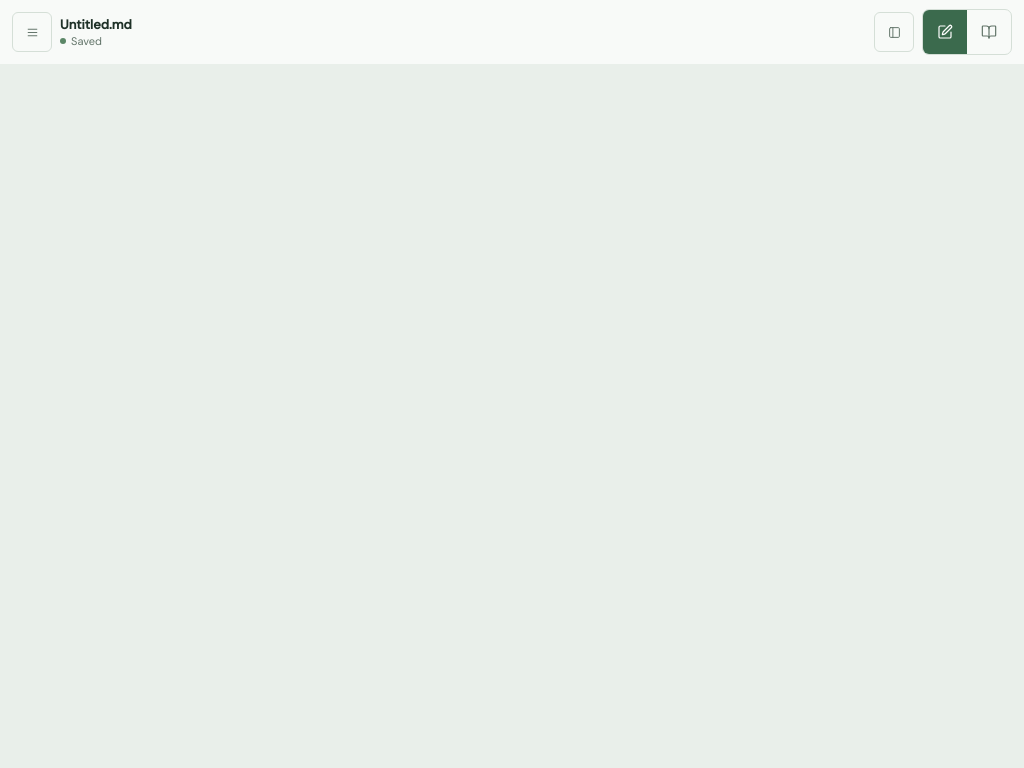
MobileToolbarActions › groups the sheet actions and keeps the destructive action last
The image size is (1024, 768).
Click the button named "Menu" at (32, 32), box [12,12,52,52]
(page scrolled)
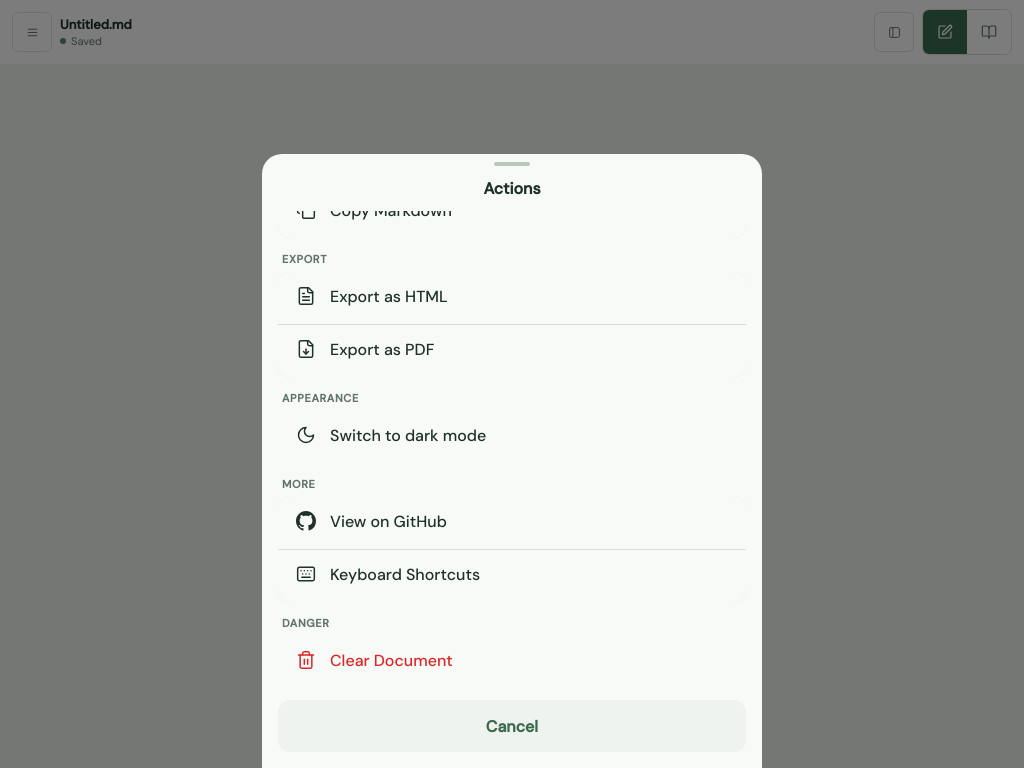
Expected: the button with class "mobile-action-sheet__action" reads "Clear Document", [278,636,746,688]
